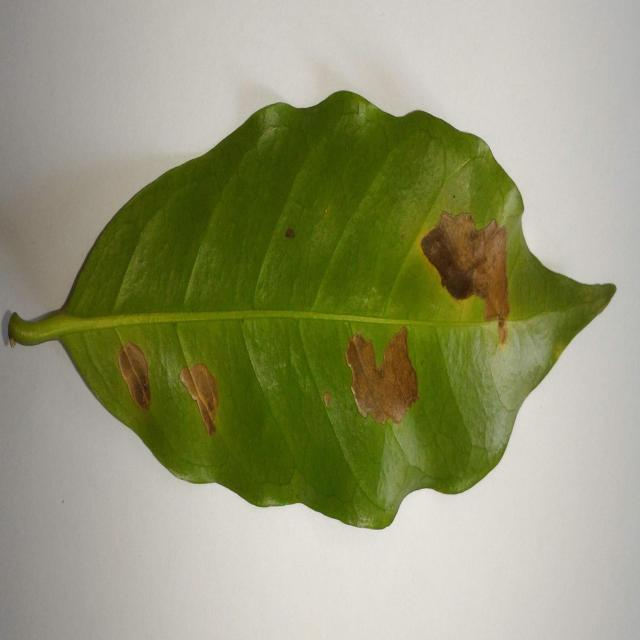Plaga-Minador: (8, 92, 619, 532)
